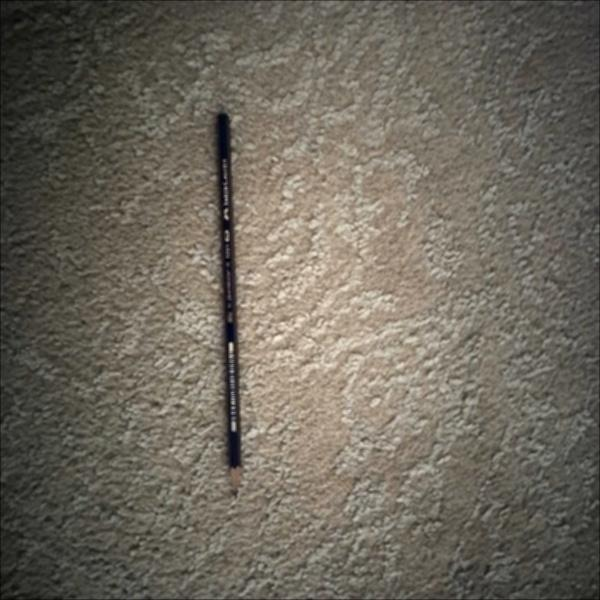pencil: (212, 108, 247, 506)
